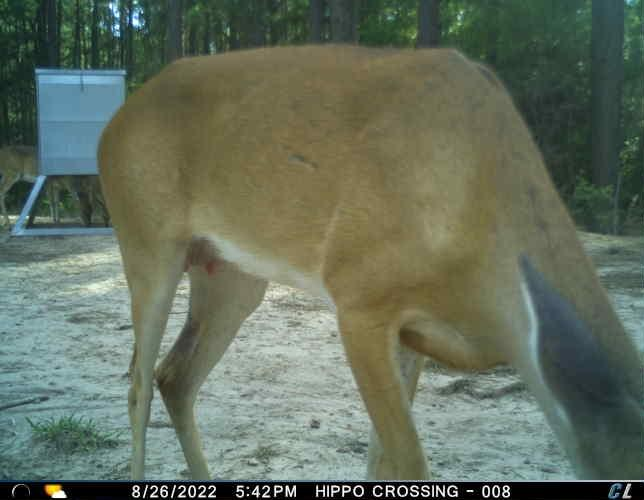Deer: (98, 43, 643, 480), (0, 142, 92, 225), (82, 169, 113, 228)
